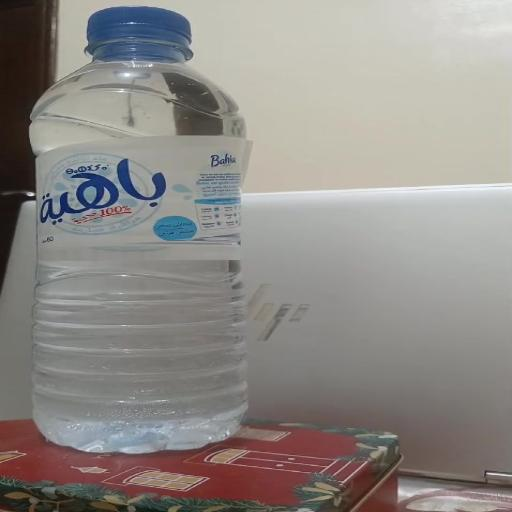bouteille conformite: (36, 24, 270, 446)
